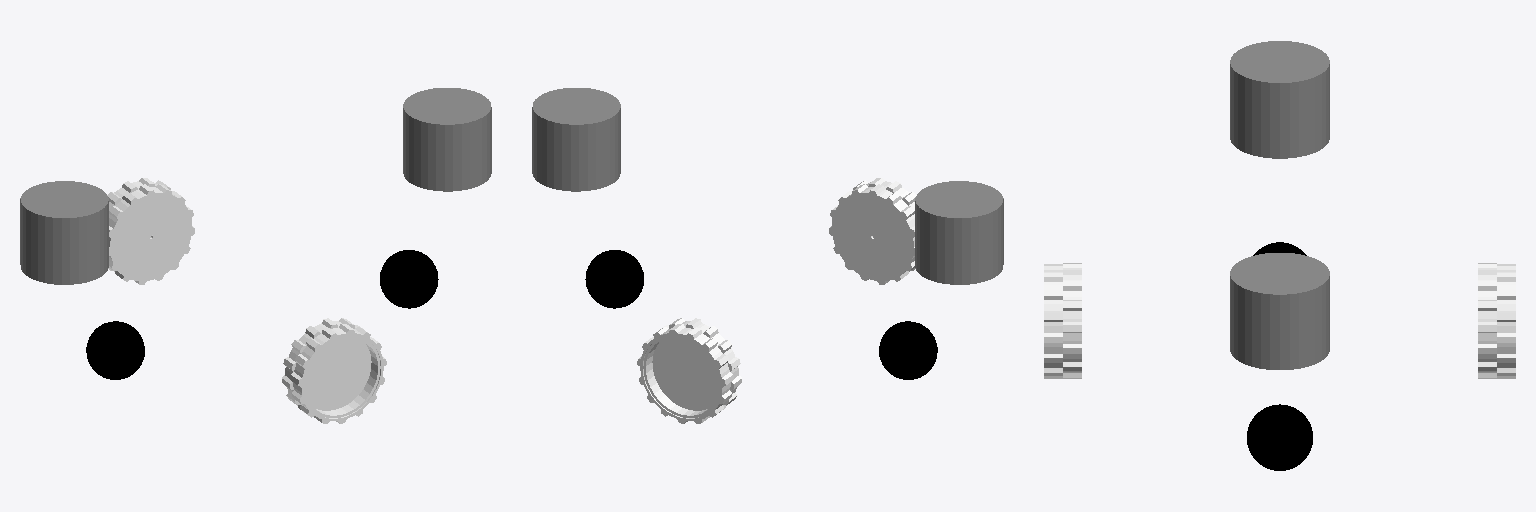
URDF robot description (diff_drive):
<?xml version="1.0"?>
<robot name="diff_drive">

  <!-- ======= 虚拟基座 ======= -->
  <link name="base_footprint">
    <inertial>
      <mass value="0.001"/>
      <origin xyz="0 0 0" rpy="0 0 0"/>
      <inertia ixx="1e-6" ixy="0" ixz="0" iyy="1e-6" iyz="0" izz="1e-6"/>
    </inertial>
  </link>

  <!-- ======= 底盘 ======= -->
  <link name="base_link">
    <inertial>
      <origin xyz="0 0 0.11676" rpy="0 0 0" />
      <mass value="1.7652" />
      <inertia ixx="0.010632" ixy="9.8514E-06" ixz="-1.4455E-05" iyy="0.01085" iyz="-1.0957E-06" izz="0.008973" />
    </inertial>
    <visual>
      <origin xyz="0 0 0" rpy="0 0 0" />
      <geometry>
        <mesh filename="package://diff_drive_gazebo/meshes/base_link.STL" />
      </geometry>
      <material name="">
        <color rgba="0.64706 0.61961 0.58824 1" />
      </material>
    </visual>
    <collision>
      <origin xyz="0 0 0.115" rpy="0 0 0" />
      <geometry>
        <cylinder radius="0.105" length="0.23" />
      </geometry>
    </collision>
  </link>

  <joint name="base_footprint_joint" type="fixed">
    <parent link="base_footprint"/>
    <child link="base_link"/>
    <origin xyz="0 0 0" rpy="0 0 0"/>
  </joint>

  <!-- ======= 左轮 ======= -->
  <link name="wheel1">
    <inertial>
      <origin xyz="-4.785E-12 0.008116 1.4731E-11" rpy="0 0 0" />
      <mass value="0.052039" />
      <inertia ixx="1.7758E-05" ixy="4.1811E-16" ixz="-2.8064E-14" iyy="3.2466E-05" iyz="-2.5217E-15" izz="1.7758E-05" />
    </inertial>
    <visual>
      <origin xyz="0 0 0" rpy="0 0 0" />
      <geometry>
        <mesh filename="package://diff_drive_gazebo/meshes/wheel1.STL" />
      </geometry>
      <material name="">
        <color rgba="1 1 1 1" />
      </material>
    </visual>
    <collision>
      <origin xyz="0 0 0" rpy="1.5708 0 0" />
      <geometry>
        <cylinder radius="0.035" length="0.024" />
      </geometry>
    </collision>
  </link>
  
  <joint name="joint1" type="continuous">
    <origin xyz="-0.013618 0.1186 0.01715" rpy="0 0 0" />
    <parent link="base_link" />
    <child link="wheel1" />
    <axis xyz="0 1 0" />
  </joint>

  <!-- ======= 右轮 ======= -->
  <link name="wheel2">
    <inertial>
      <origin xyz="8.0422E-15 -0.008116 -4.2688E-14" rpy="0 0 0" />
      <mass value="0.052039" />
      <inertia ixx="1.7758E-05" ixy="6.0139E-20" ixz="-2.5647E-20" iyy="3.2466E-05" iyz="3.8403E-21" izz="1.7758E-05" />
    </inertial>
    <visual>
      <origin xyz="0 0 0" rpy="0 0 0" />
      <geometry>
        <mesh filename="package://diff_drive_gazebo/meshes/wheel2.STL" />
      </geometry>
      <material name="">
        <color rgba="1 1 1 1" />
      </material>
    </visual>
    <collision>
      <origin xyz="0 0 0" rpy="1.5708 0 0" />
      <geometry>
        <cylinder radius="0.035" length="0.024" />
      </geometry>
    </collision>
  </link>

  <joint name="joint2" type="continuous">
    <origin xyz="-0.013618 -0.1186 0.01715" rpy="0 0 0" />
    <parent link="base_link" />
    <child link="wheel2" />
    <axis xyz="0 1 0" />
  </joint>

  <!-- ======= 前万向轮 ======= -->
  <link name="front_caster">
    <inertial>
      <mass value="0.02"/>
      <origin xyz="0 0 0" rpy="0 0 0"/>
      <inertia ixx="1e-5" ixy="0" ixz="0" iyy="1e-5" iyz="0" izz="1e-5"/>
    </inertial>
    <visual>
      <origin xyz="0 0 0" rpy="0 0 0"/>
      <geometry>
        <sphere radius="0.02"/>
      </geometry>
      <material name="Black">
        <color rgba="0 0 0 1"/>
      </material>
    </visual>
    <collision>
      <origin xyz="0 0 0" rpy="0 0 0"/>
      <geometry>
        <sphere radius="0.02"/>
      </geometry>
    </collision>
  </link>

  <joint name="front_caster_joint" type="fixed">
    <parent link="base_link"/>
    <child link="front_caster"/>
    <origin xyz="0.12 0 0.0025" rpy="0 0 0"/>
  </joint>

  <!-- ======= 后万向轮 ======= -->
  <link name="rear_caster">
    <inertial>
      <mass value="0.02"/>
      <origin xyz="0 0 0" rpy="0 0 0"/>
      <inertia ixx="1e-5" ixy="0" ixz="0" iyy="1e-5" iyz="0" izz="1e-5"/>
    </inertial>
    <visual>
      <origin xyz="0 0 0" rpy="0 0 0"/>
      <geometry>
        <sphere radius="0.02"/>
      </geometry>
      <material name="Black">
        <color rgba="0 0 0 1"/>
      </material>
    </visual>
    <collision>
      <origin xyz="0 0 0" rpy="0 0 0"/>
      <geometry>
        <sphere radius="0.02"/>
      </geometry>
    </collision>
  </link>

  <joint name="rear_caster_joint" type="fixed">
    <parent link="base_link"/>
    <child link="rear_caster"/>
    <origin xyz="-0.11 0 0.0025" rpy="0 0 0"/>
  </joint>

  <!-- ======= 前激光雷达 ======= -->
  <link name="laser_front">
    <inertial>
      <mass value="0.1" />
      <origin xyz="0 0 0" rpy="0 0 0" />
      <inertia ixx="1e-4" ixy="0" ixz="0" iyy="1e-4" iyz="0" izz="1e-4" />
    </inertial>
    <visual>
      <origin xyz="0 0 0" rpy="0 0 0" />
      <geometry>
        <cylinder radius="0.03" length="0.05" />
      </geometry>
      <material name="Gray">
        <color rgba="0.6 0.6 0.6 1" />
      </material>
    </visual>
    <collision>
      <origin xyz="0 0 0" rpy="0 0 0" />
      <geometry>
        <cylinder radius="0.03" length="0.05" />
      </geometry>
    </collision>
  </link>

  <joint name="laser_front_joint" type="fixed">
    <parent link="base_link" />
    <child link="laser_front" />
    <origin xyz="0.15 0 0.1" rpy="0 0 0" />
  </joint>

  <gazebo reference="laser_front">
    <sensor type="ray" name="laser_front_sensor">
      <pose>0 0 0 0 0 0</pose>
      <update_rate>10</update_rate>
      <ray>
        <scan>
          <horizontal>
            <samples>720</samples>
            <resolution>1</resolution>
            <min_angle>-3.14</min_angle>
            <max_angle>3.14</max_angle>
          </horizontal>
        </scan>
        <range>
          <min>0.10</min>
          <max>10.0</max>
          <resolution>0.01</resolution>
        </range>
        <noise>
          <type>gaussian</type>
          <mean>0.0</mean>
          <stddev>0.01</stddev>
        </noise>
      </ray>
      <visualize>false</visualize>
      <plugin name="gazebo_rplidar_front" filename="libgazebo_ros_ray_sensor.so">
        <ros>
          <remapping>~/out:=/scan1</remapping>
        </ros>
        <output_type>sensor_msgs/LaserScan</output_type>
        <frame_name>laser_front</frame_name>
      </plugin>
    </sensor>
  </gazebo>

  <!-- ======= 后激光雷达 ======= -->
  <link name="laser_back">
    <inertial>
      <mass value="0.1" />
      <origin xyz="0 0 0" rpy="0 0 0" />
      <inertia ixx="1e-4" ixy="0" ixz="0" iyy="1e-4" iyz="0" izz="1e-4" />
    </inertial>
    <visual>
      <origin xyz="0 0 0" rpy="0 0 0" />
      <geometry>
        <cylinder radius="0.03" length="0.05" />
      </geometry>
      <material name="Gray">
        <color rgba="0.6 0.6 0.6 1" />
      </material>
    </visual>
    <collision>
      <origin xyz="0 0 0" rpy="0 0 0" />
      <geometry>
        <cylinder radius="0.03" length="0.05" />
      </geometry>
    </collision>
  </link>

  <joint name="laser_back_joint" type="fixed">
    <parent link="base_link" />
    <child link="laser_back" />
    <!-- 放置在后方 -0.15 米，并且绕 Z 轴旋转 180 度 (3.14159 rad) -->
    <origin xyz="-0.15 0 0.1" rpy="0 0 3.14159" />
  </joint>

  <gazebo reference="laser_back">
    <sensor type="ray" name="laser_back_sensor">
      <pose>0 0 0 0 0 0</pose>
      <update_rate>10</update_rate>
      <ray>
        <scan>
          <horizontal>
            <samples>720</samples>
            <resolution>1</resolution>
            <min_angle>-3.14</min_angle>
            <max_angle>3.14</max_angle>
          </horizontal>
        </scan>
        <range>
          <min>0.10</min>
          <max>10.0</max>
          <resolution>0.01</resolution>
        </range>
        <noise>
          <type>gaussian</type>
          <mean>0.0</mean>
          <stddev>0.01</stddev>
        </noise>
      </ray>
      <visualize>false</visualize>
      <plugin name="gazebo_rplidar_back" filename="libgazebo_ros_ray_sensor.so">
        <ros>
          <remapping>~/out:=/scan2</remapping>
        </ros>
        <output_type>sensor_msgs/LaserScan</output_type>
        <frame_name>laser_back</frame_name>
      </plugin>
    </sensor>
  </gazebo>

  <!-- 轮子与物理属性配置 -->
  <gazebo reference="wheel1">
    <mu1>1.5</mu1>
    <mu2>1.5</mu2>
    <kp>1e6</kp>
    <kd>100</kd>
    <minDepth>0.001</minDepth>
    <material>Gazebo/Black</material>
  </gazebo>

  <gazebo reference="wheel2">
    <mu1>1.5</mu1>
    <mu2>1.5</mu2>
    <kp>1e6</kp>
    <kd>100</kd>
    <minDepth>0.001</minDepth>
    <material>Gazebo/Black</material>
  </gazebo>

  <gazebo reference="front_caster">
    <mu1>0.1</mu1>
    <mu2>0.1</mu2>
    <kp>1e6</kp>
    <kd>50</kd>
    <minDepth>0.001</minDepth>
    <material>Gazebo/Black</material>
  </gazebo>

  <gazebo reference="rear_caster">
    <mu1>0.1</mu1>
    <mu2>0.1</mu2>
    <kp>1e6</kp>
    <kd>50</kd>
    <minDepth>0.001</minDepth>
    <material>Gazebo/Black</material>
  </gazebo>

  <!-- ========== Gazebo ROS 2 差速驱动插件 ========== -->
  <gazebo>
    <plugin name="differential_drive_controller" filename="libgazebo_ros_diff_drive.so">
      <ros>
        <namespace>/</namespace>
        <remapping>cmd_vel:=cmd_vel</remapping>
        <remapping>odom:=odom</remapping>
      </ros>

      <left_joint>joint1</left_joint>
      <right_joint>joint2</right_joint>

      <wheel_separation>0.2372</wheel_separation>
      <wheel_diameter>0.07</wheel_diameter>

      <max_wheel_torque>20.0</max_wheel_torque>
      <max_wheel_acceleration>5.0</max_wheel_acceleration>

      <command_topic>cmd_vel</command_topic>
      <odometry_topic>odom</odometry_topic>
      <odometry_frame>odom</odometry_frame>
      <robot_base_frame>base_footprint</robot_base_frame>

      <publish_odom>true</publish_odom>
      <publish_odom_tf>true</publish_odom_tf>
      <publish_wheel_tf>true</publish_wheel_tf>
      <update_rate>100.0</update_rate>
    </plugin>
  </gazebo>

</robot>

--- What the picture shows (computed from the rendered views, not written in the file) ---
The picture shows the robot from 3 angles, left to right: view 1: azimuth 30°, elevation 25°; view 2: azimuth 150°, elevation 25°; view 3: azimuth 270°, elevation 25°; orthographic projection.
Model diff_drive with 8 links and 7 joints (2 continuous, 5 fixed), rooted at base_footprint, posed all joints at 0.
Links seen in each view (by area): view 1: laser_front, laser_back, wheel2, wheel1, rear_caster, front_caster; view 2: laser_front, laser_back, wheel1, wheel2, rear_caster, front_caster; view 3: laser_back, laser_front, wheel1, wheel2, front_caster.
Link boxes in pixels (x1,y1,x2,y2): laser_front: [403, 88, 491, 191]; laser_back: [20, 181, 108, 284]; wheel2: [282, 318, 386, 423]; wheel1: [107, 178, 194, 284]; rear_caster: [86, 321, 144, 379]; front_caster: [380, 250, 438, 308]; laser_front: [532, 88, 620, 191]; laser_back: [915, 181, 1003, 284]; wheel1: [637, 318, 741, 423]; wheel2: [829, 178, 916, 284]; rear_caster: [879, 321, 937, 379]; front_caster: [585, 250, 643, 308]; laser_back: [1230, 41, 1329, 158]; laser_front: [1230, 253, 1329, 369]; wheel1: [1478, 263, 1515, 378]; wheel2: [1044, 263, 1081, 378]; front_caster: [1247, 404, 1312, 470].
Bounding box of the posed robot: 0.36 × 0.2822 × 0.1425 m (x, y, z).
Meshes: 3 distinct files referenced, 2 mesh visuals loaded (2 binary STL); not drawn: 1 (reference not matched to a file when rendering).
